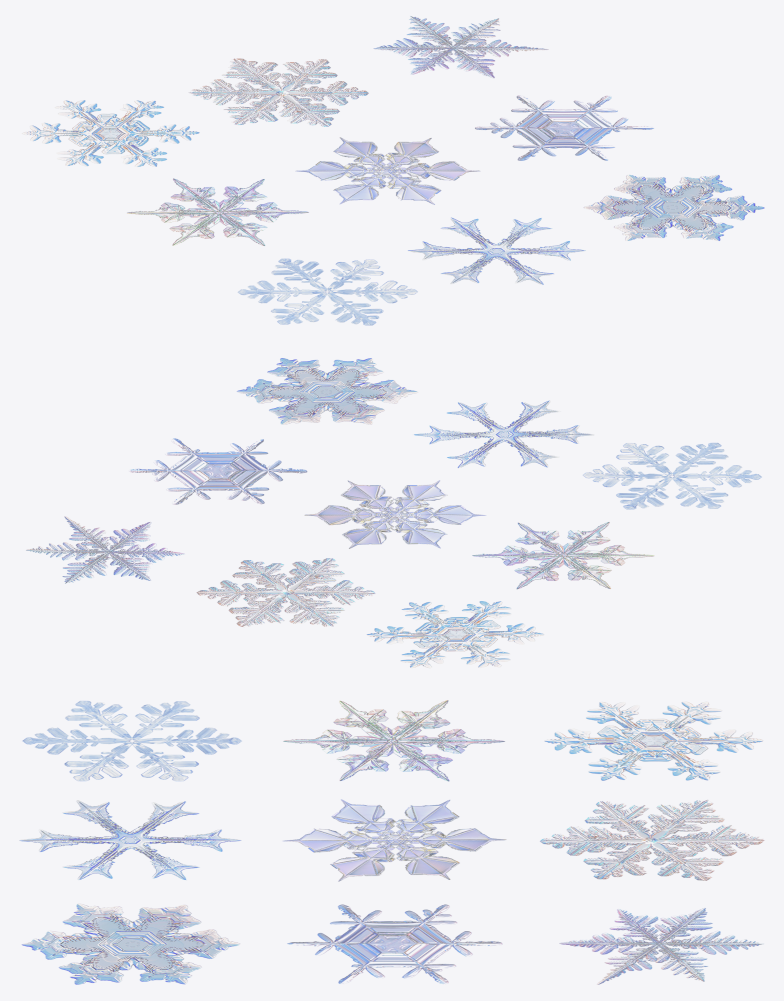
Rendered from snowflakes.glb.
The picture shows the model from 3 angles, top to bottom: view 1: azimuth 30°, elevation 25°; view 2: azimuth 150°, elevation 25°; view 3: azimuth 270°, elevation 25°; orthographic projection. The views are drawn at different scales.
Visible parts, largest first — view 1: Circle.008, Circle.001, Circle.004, Circle.006, Circle, Circle.003, Circle.005, Circle.002, Circle.007; view 2: Circle.008, Circle.001, Circle.004, Circle.006, Circle, Circle.003, Circle.005, Circle.002, Circle.007; view 3: Circle.008, Circle.001, Circle.004, Circle, Circle.006, Circle.003, Circle.005, Circle.002, Circle.007.
Part boxes in pixels (x1=…): Circle.008: x1=583, y1=175, x2=764, y2=240; Circle.001: x1=188, y1=58, x2=368, y2=126; Circle.004: x1=295, y1=137, x2=479, y2=204; Circle.006: x1=237, y1=258, x2=417, y2=325; Circle: x1=22, y1=100, x2=199, y2=166; Circle.003: x1=127, y1=178, x2=308, y2=245; Circle.005: x1=475, y1=95, x2=653, y2=160; Circle.002: x1=373, y1=16, x2=548, y2=78; Circle.007: x1=408, y1=217, x2=585, y2=284; Circle.008: x1=237, y1=358, x2=417, y2=424; Circle.001: x1=196, y1=558, x2=375, y2=626; Circle.004: x1=305, y1=480, x2=485, y2=548; Circle.006: x1=583, y1=443, x2=761, y2=509; Circle: x1=367, y1=601, x2=543, y2=667; Circle.003: x1=472, y1=522, x2=653, y2=588; Circle.005: x1=129, y1=438, x2=306, y2=504; Circle.002: x1=26, y1=516, x2=184, y2=583; Circle.007: x1=414, y1=400, x2=593, y2=467; Circle.008: x1=21, y1=904, x2=239, y2=984; Circle.001: x1=540, y1=800, x2=764, y2=880; Circle.004: x1=283, y1=799, x2=506, y2=881; Circle: x1=544, y1=702, x2=762, y2=780; Circle.006: x1=22, y1=701, x2=241, y2=781; Circle.003: x1=283, y1=700, x2=504, y2=781; Circle.005: x1=287, y1=904, x2=502, y2=983; Circle.002: x1=559, y1=908, x2=761, y2=984; Circle.007: x1=19, y1=800, x2=241, y2=880.
Size of the model in its own units: 5.83 by 0 by 6.45.
Materials: 1 (1 with a texture image).
